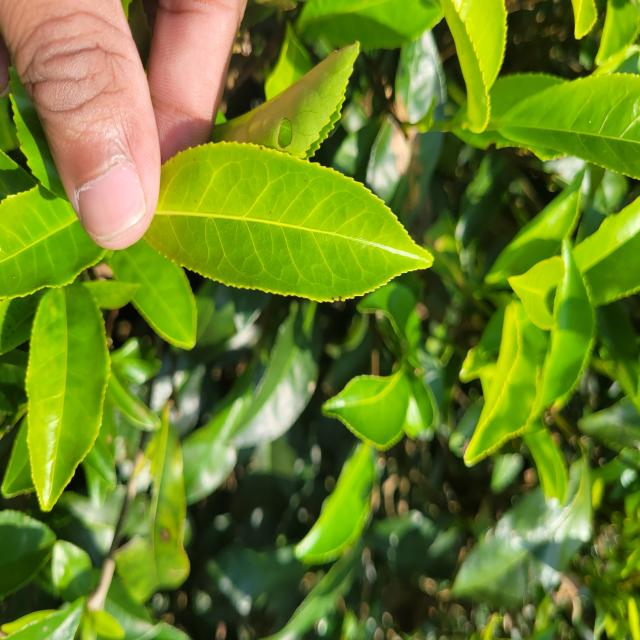Catagory A(1-2 days): (125, 129, 442, 311)
